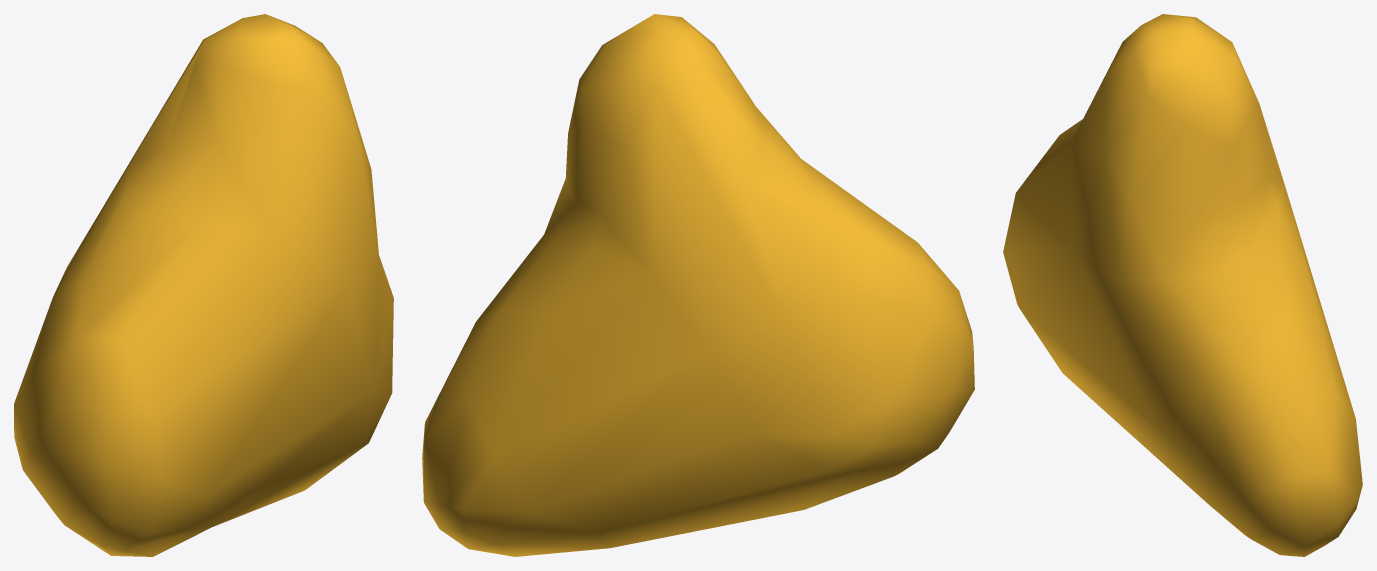
The model's file is nervoso-ampulla-of-lacrimal-canaliculus-l.glb.
The picture shows the model from 3 angles, left to right: view 1: azimuth 30°, elevation 25°; view 2: azimuth 150°, elevation 25°; view 3: azimuth 270°, elevation 25°; orthographic projection. The views are drawn at different scales.
Parts seen in each view (by area): view 1: Ampulla of lacrimal canaliculus.l; view 2: Ampulla of lacrimal canaliculus.l; view 3: Ampulla of lacrimal canaliculus.l.
Part boxes in pixels (x1,y1,x2,y2): Ampulla of lacrimal canaliculus.l: [14, 14, 393, 556]; Ampulla of lacrimal canaliculus.l: [422, 14, 974, 556]; Ampulla of lacrimal canaliculus.l: [1003, 14, 1362, 556].
Bounding box in the file's own units: 0.00303 × 0.00339 × 0.0023.
